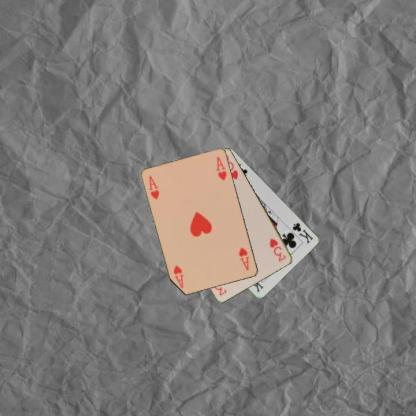3h: (267, 236, 287, 262)
Ah: (236, 245, 251, 272), (146, 174, 160, 200)
Kc: (290, 220, 315, 245)
